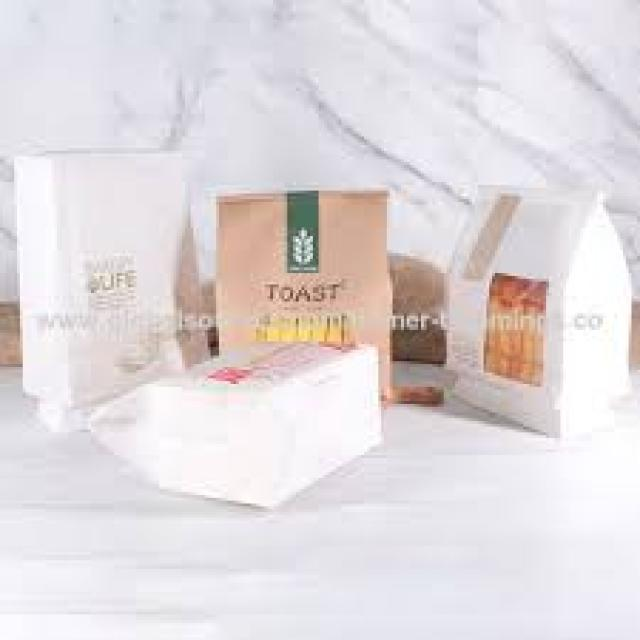paper bag: (450, 170, 632, 452)
